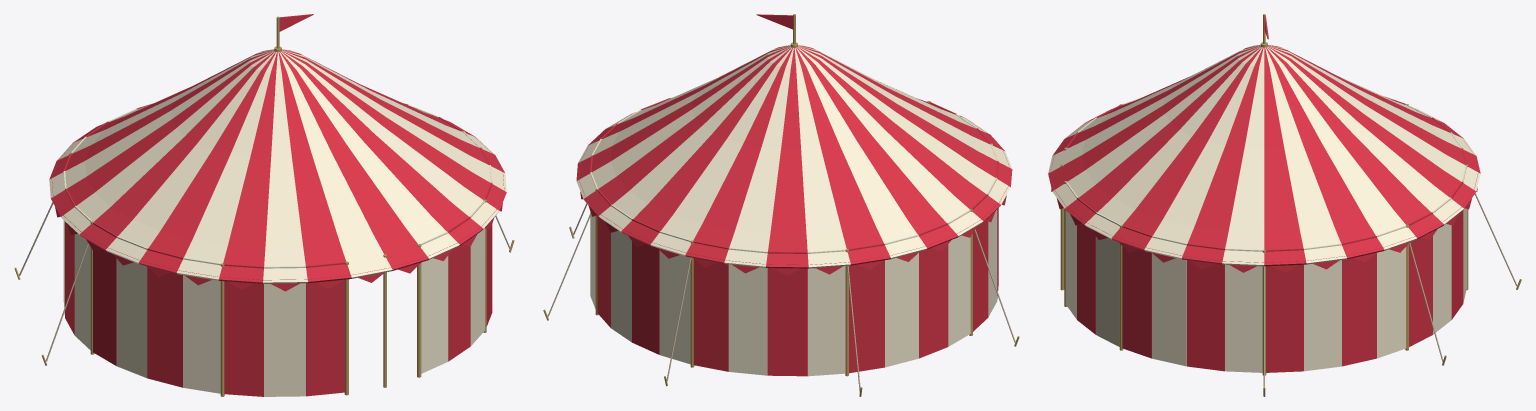
File: circus_tent_round.glb
3 views of the same model, side by side, from view 1: azimuth 30°, elevation 25°; view 2: azimuth 150°, elevation 25°; view 3: azimuth 270°, elevation 25° (orthographic). The views are drawn at different scales.
Visible parts, largest first — view 1: Round striped peaked roof, Round big top striped canvas walls, Round big top pointed valance, Round big top perimeter support pole.005, Round big top entry upright.001, Round big top entry upright, Round big top perimeter support pole.006; view 2: Round striped peaked roof, Round big top striped canvas walls, Round big top pointed valance, Round big top perimeter support pole.002, Round big top perimeter support pole.003; view 3: Round striped peaked roof, Round big top striped canvas walls, Round big top pointed valance, Round big top perimeter support pole.007, Round big top perimeter support pole.006.
Boxes of the visible parts, x1,y1,x2,y2 form: Round striped peaked roof: (49,49,506,283); Round big top striped canvas walls: (63,103,492,396); Round big top pointed valance: (51,120,504,291); Round big top perimeter support pole.005: (220,263,224,396); Round big top entry upright.001: (417,244,421,377); Round big top entry upright: (344,261,348,395); Round big top perimeter support pole.006: (383,254,386,387); Round striped peaked roof: (576,45,1012,268); Round big top striped canvas walls: (590,96,998,376); Round big top pointed valance: (578,112,1009,275); Round big top perimeter support pole.002: (690,240,694,367); Round big top perimeter support pole.003: (845,249,848,376); Round striped peaked roof: (1048,45,1480,266); Round big top striped canvas walls: (1066,96,1466,372); Round big top pointed valance: (1050,108,1478,272); Round big top perimeter support pole.007: (1119,224,1123,350); Round big top perimeter support pole.006: (1060,164,1064,290).
Size of the model in its own units: 12.75 by 7.52 by 11.73.
